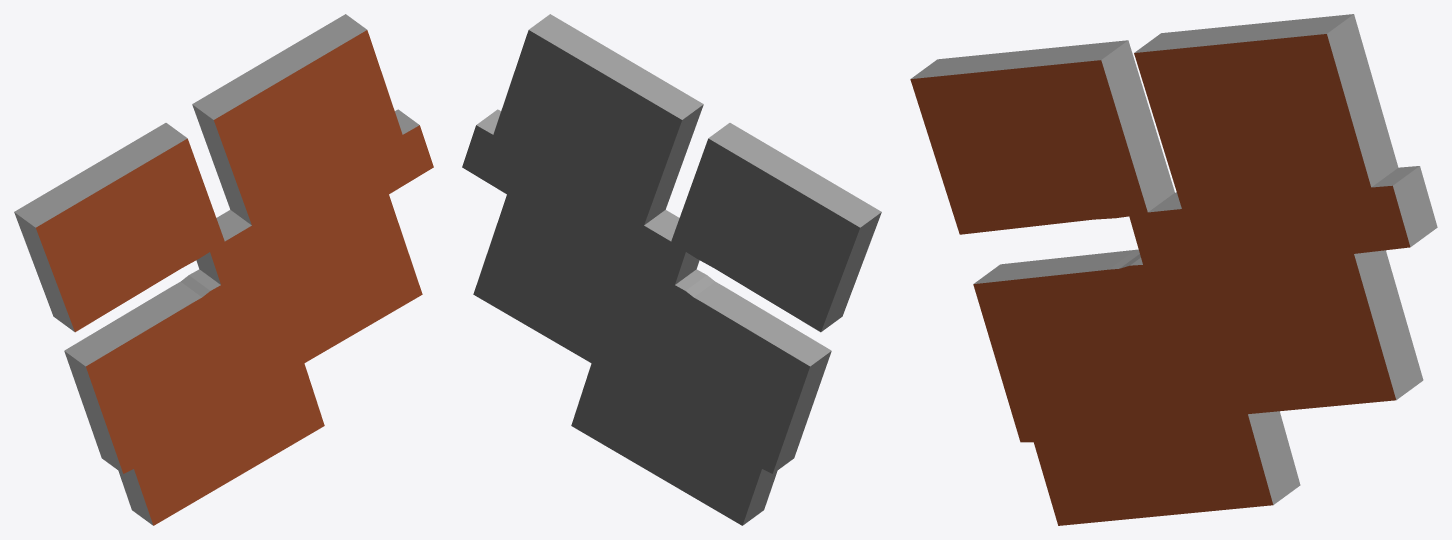
Rendered from construction_5812_assumed_A_Casa_h6m.obj.
3 renders of one model, left to right at view 1: azimuth 30°, elevation 25°; view 2: azimuth 150°, elevation 25°; view 3: azimuth 330°, elevation 25°, orthographic. The views are drawn at different scales.
Visible parts, largest first — view 1: construction_5812_assumed_A_Casa; view 2: construction_5812_assumed_A_Casa; view 3: construction_5812_assumed_A_Casa.
Boxes of the visible parts, bbox=[...] form: construction_5812_assumed_A_Casa: bbox=[14, 14, 433, 525]; construction_5812_assumed_A_Casa: bbox=[462, 14, 881, 525]; construction_5812_assumed_A_Casa: bbox=[910, 14, 1437, 525].
Bounding box in the file's own units: 63.76 × 67.92 × 6.
